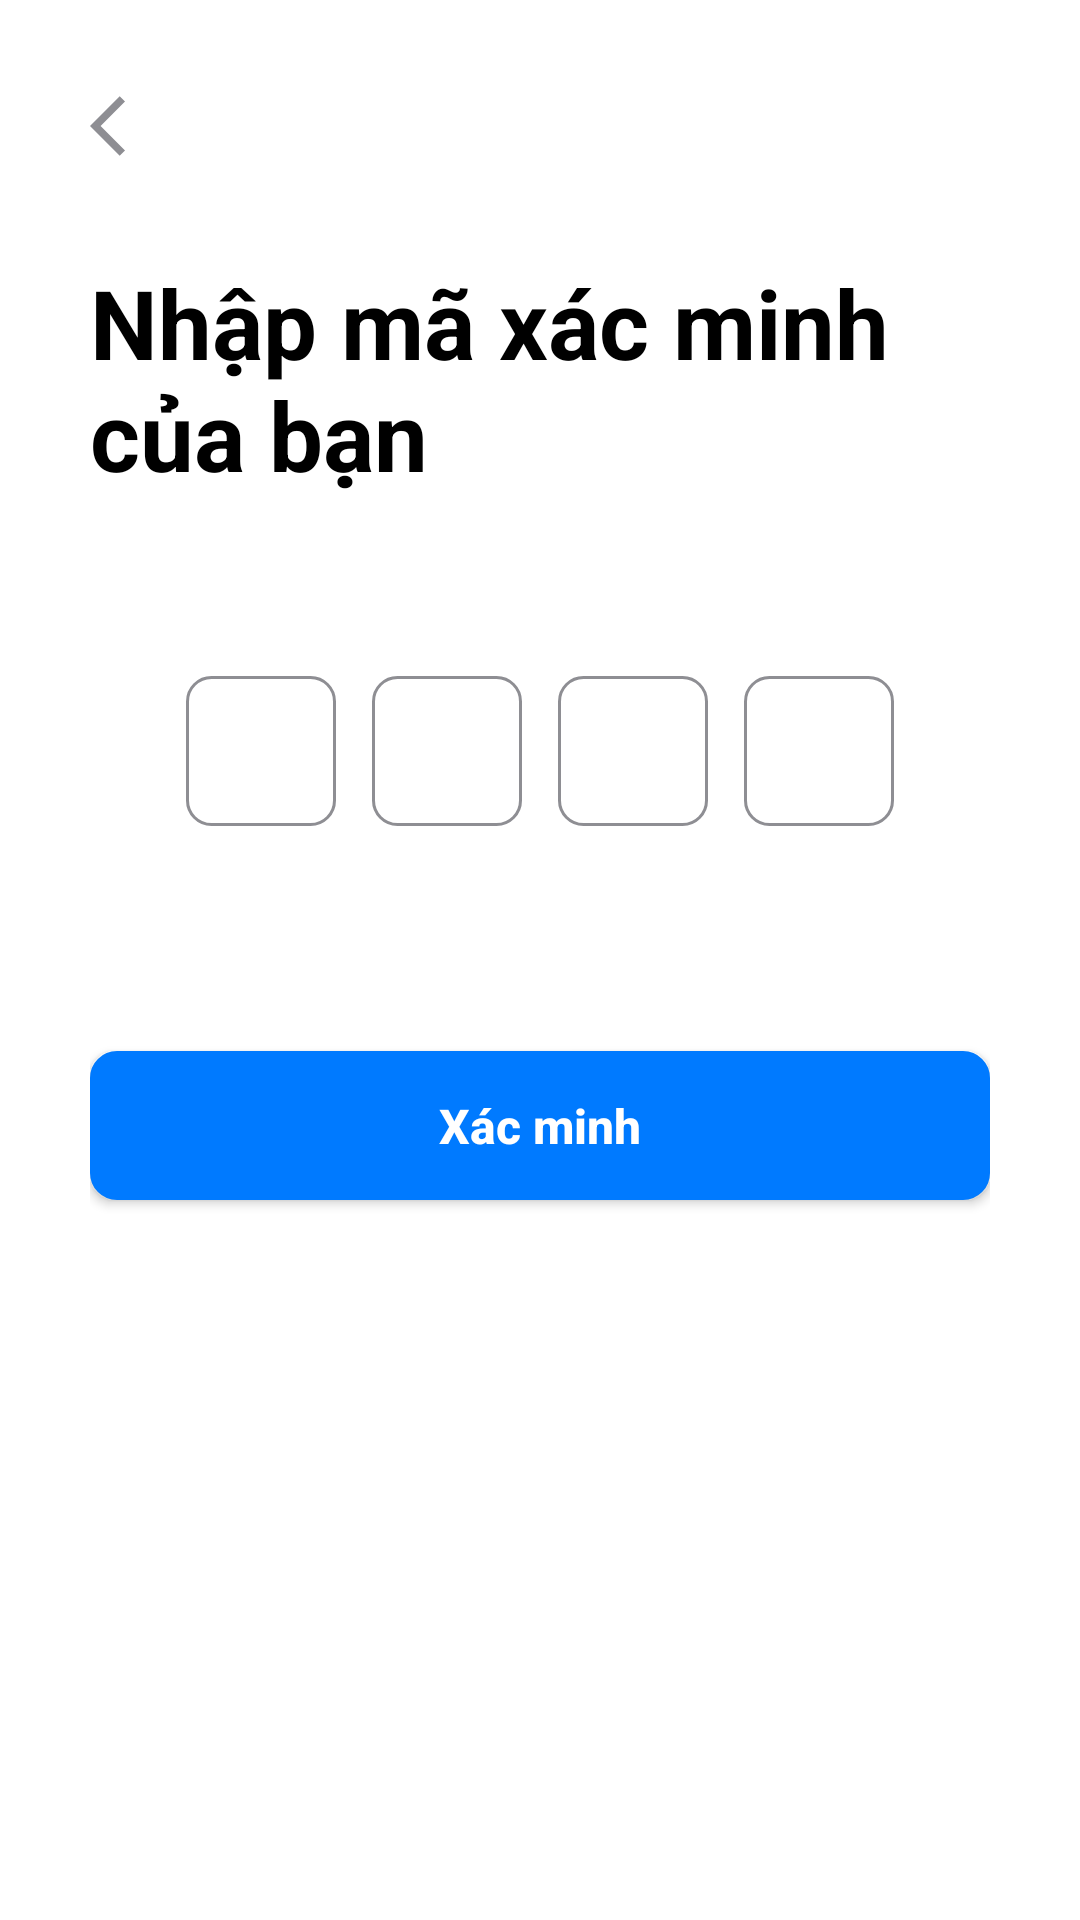

Named icons in this screenshot (1080w x 1920h) and their bounding boxes, Rect(x1, y1, x2, y2):
Quay lại: Rect(90, 96, 125, 156)
